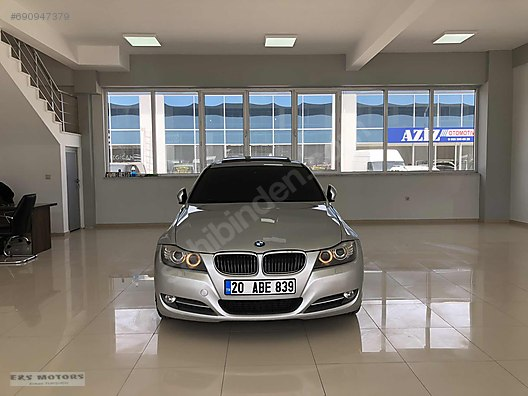bmw: (150, 152, 365, 326)
